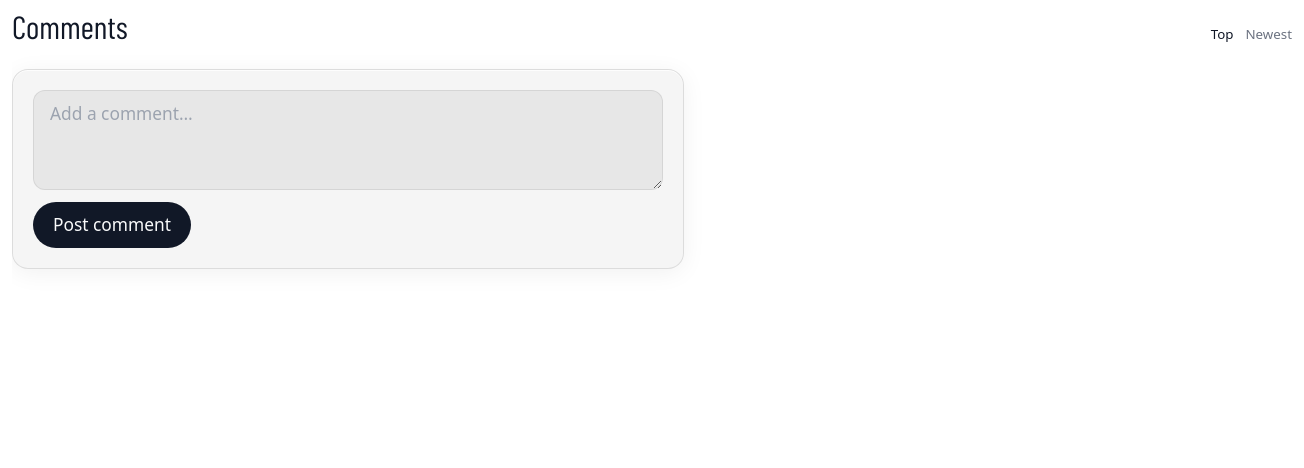
CommentsSection › appends a successfully posted comment to the list without a refetch
In the text box with placeholder "Add a comment…": [348, 140] box [33,90,663,190], type "Nice read"
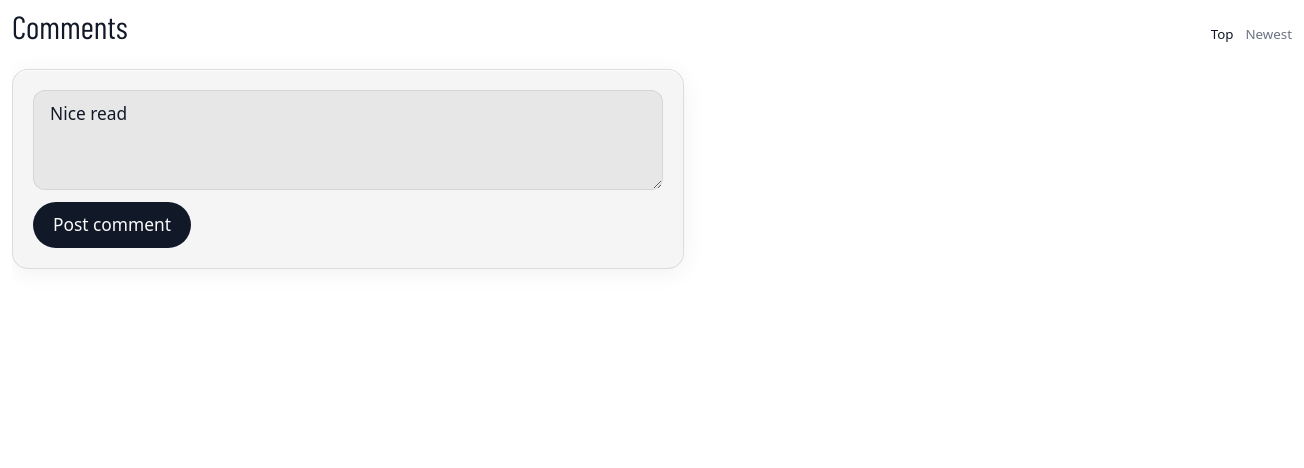
Click the button "Post comment": [112, 225] box [33,202,191,248]
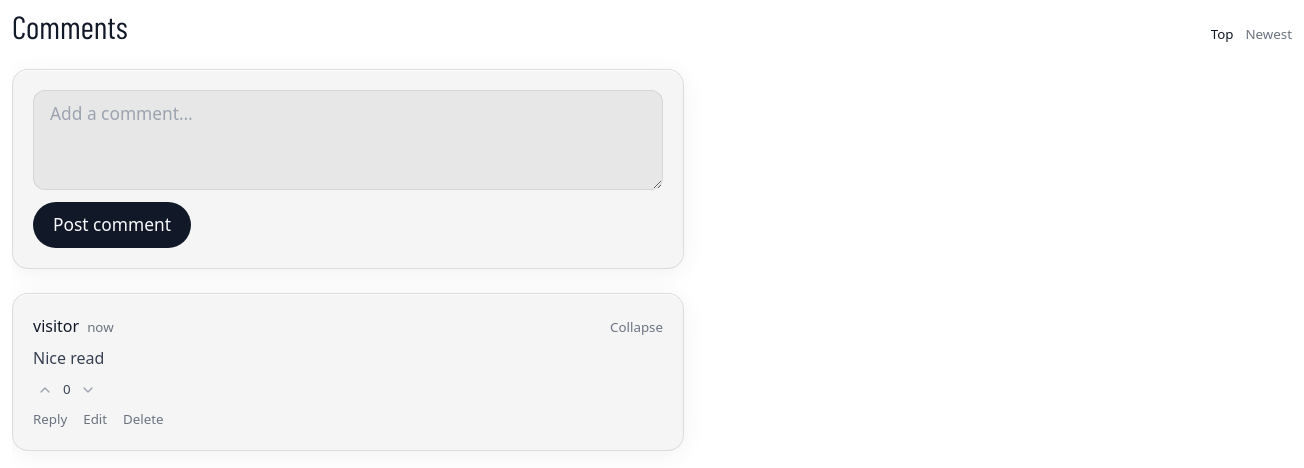
Expected: the text "Nice read" is shown, [33,347,104,369]
